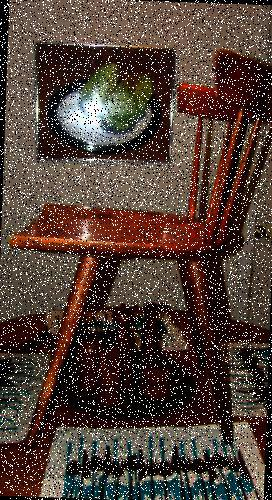Silla: (16, 47, 265, 465)
